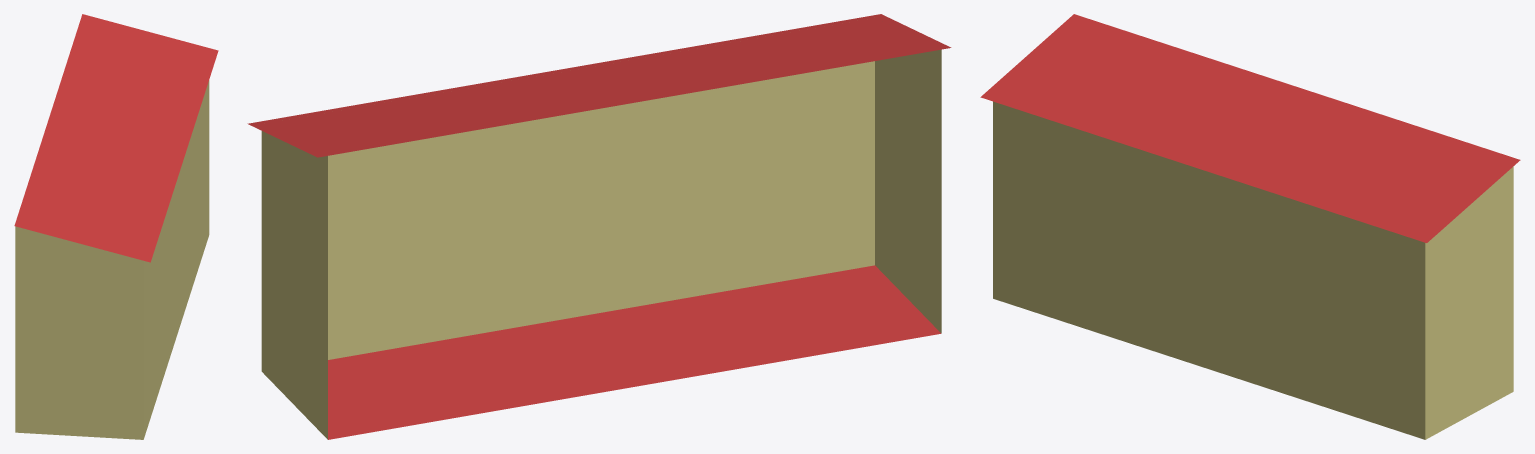
3 views of the same model, side by side, from view 1: azimuth 30°, elevation 25°; view 2: azimuth 150°, elevation 25°; view 3: azimuth 270°, elevation 25° (orthographic). The views are drawn at different scales.
Size of the model in its own units: 12.77 by 14.79 by 7.07.
